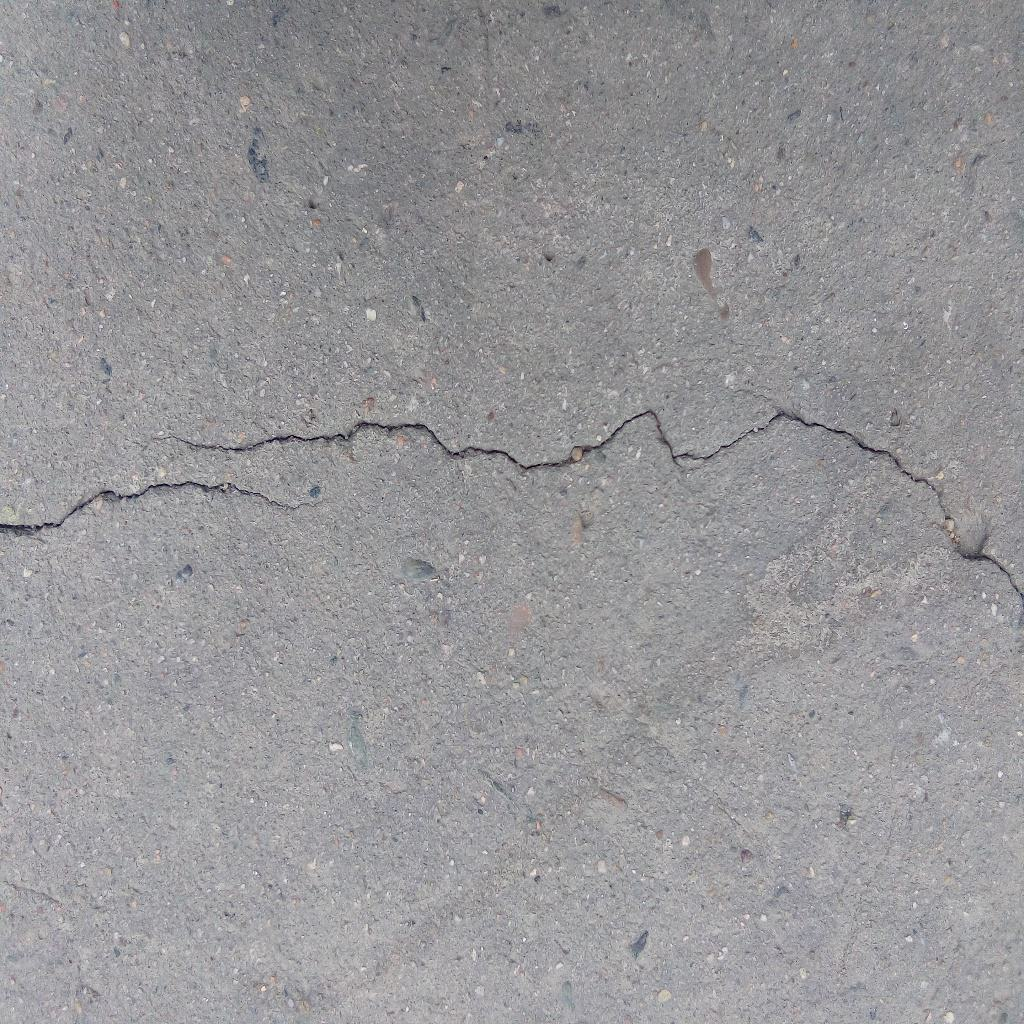Crack: (167, 403, 1024, 600), (1, 481, 328, 535)
